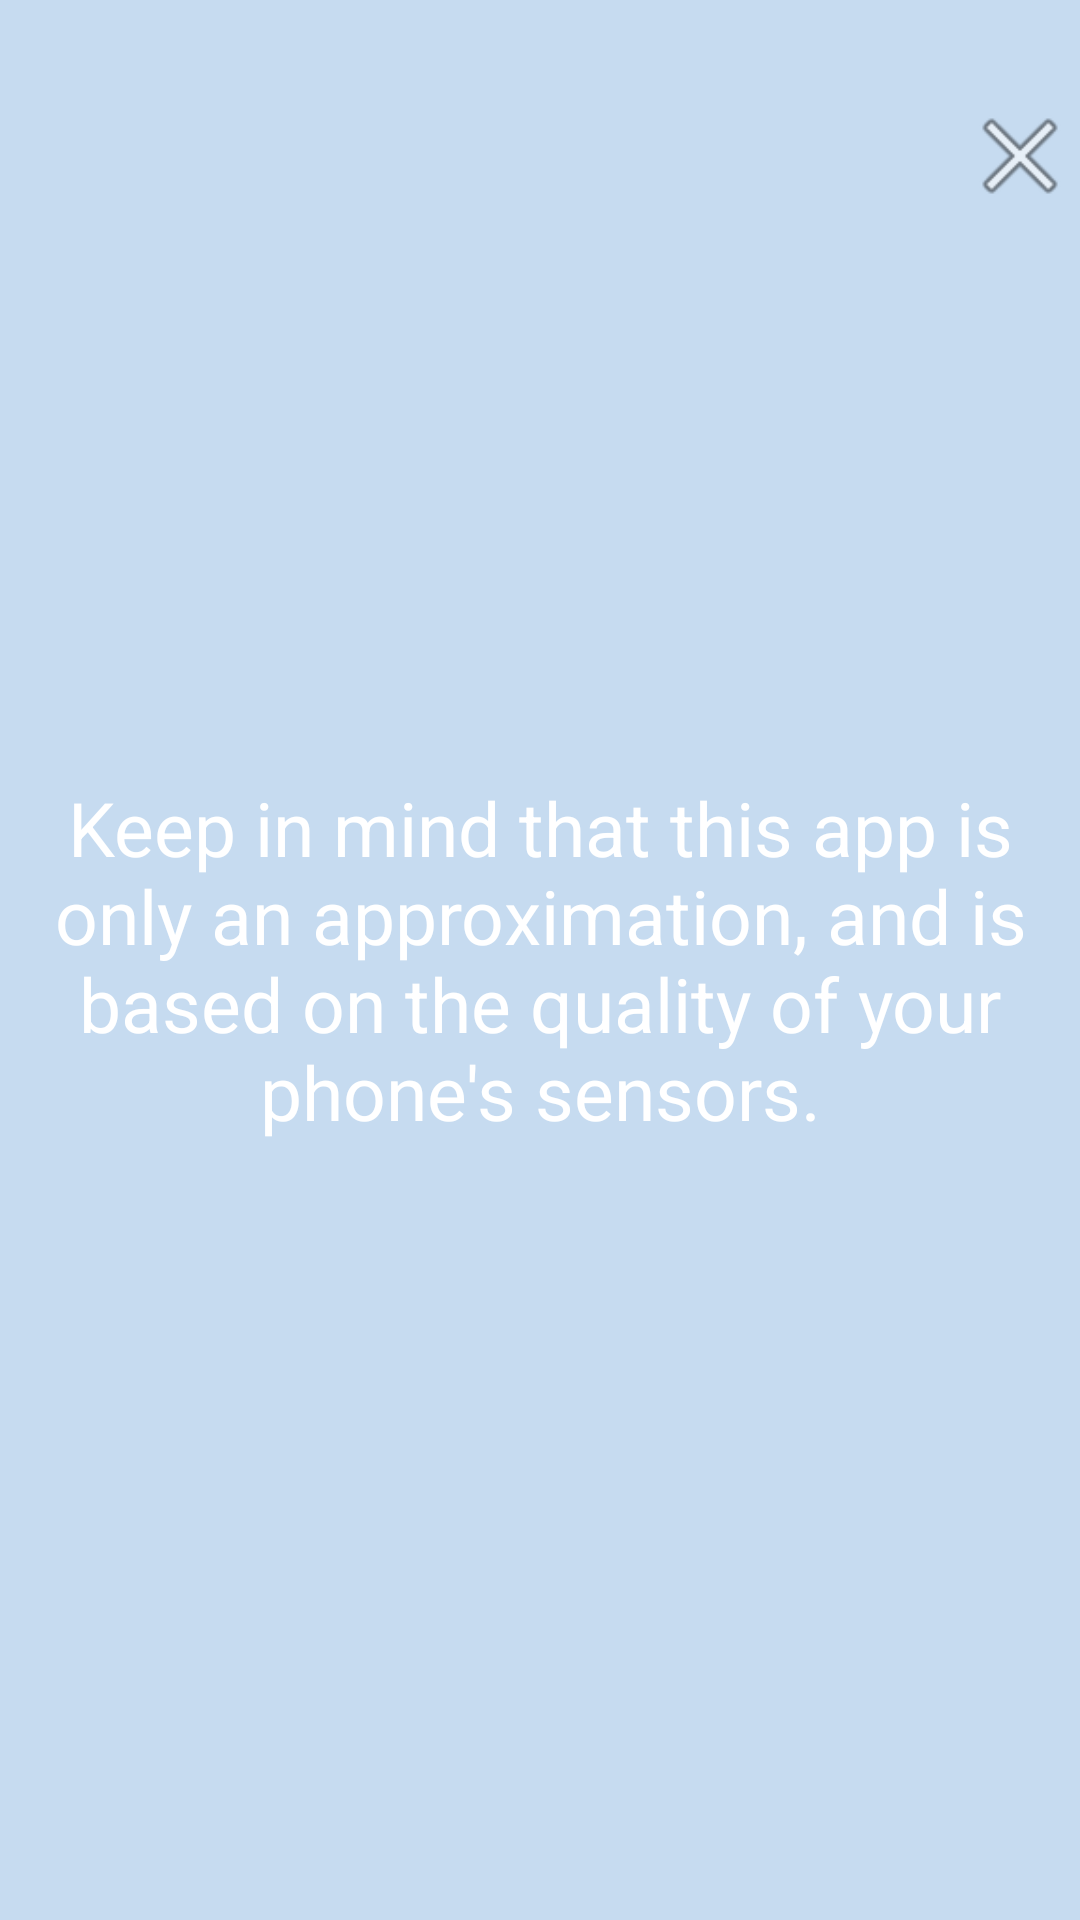

Icons on this 1080*1920 Android screen, each with its box as (x1, y1, x2, y2):
close clear cancel: (982, 118, 1058, 194)
